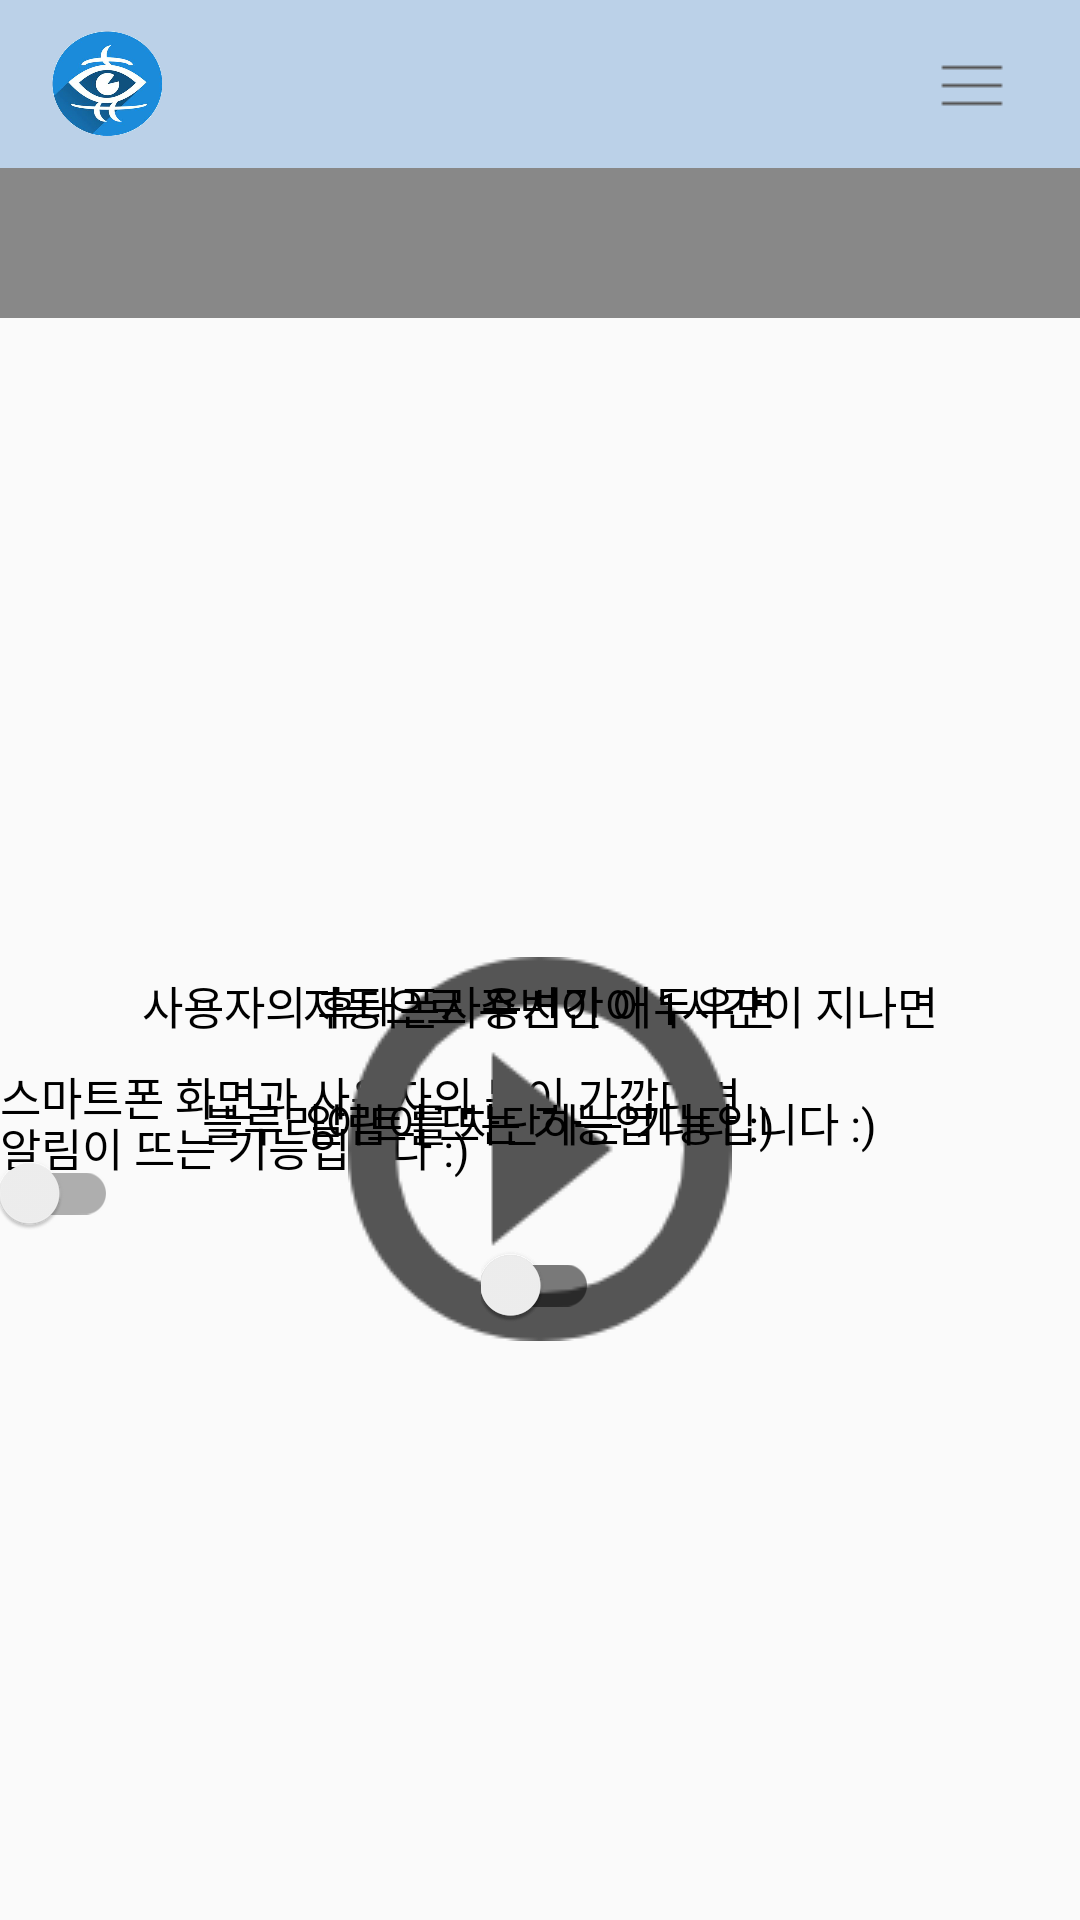

Where icons sit on this 1080×1920 app screen, as (x1, y1, x2, y2):
menu: (941, 65, 1003, 106)
